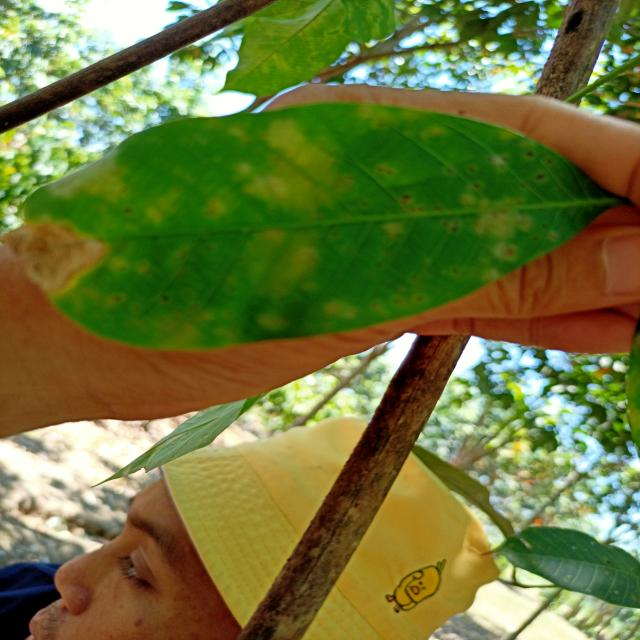Leaf-Blight: (0, 221, 104, 294)
